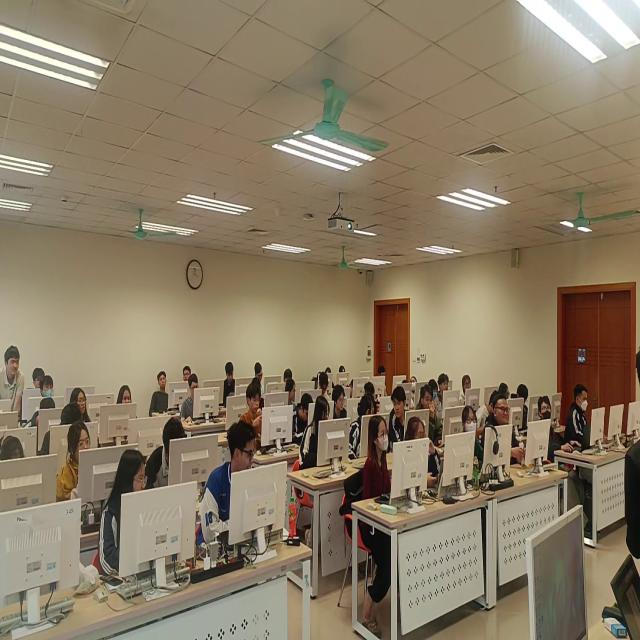raise_head: (363, 428, 396, 546), (486, 403, 525, 468), (537, 399, 567, 477), (458, 405, 485, 481), (154, 370, 180, 418), (116, 384, 142, 430), (418, 390, 441, 435), (72, 390, 98, 427), (438, 374, 453, 412), (32, 370, 48, 393), (42, 376, 56, 401), (182, 362, 192, 386)
stand: (1, 345, 24, 432)
using_computer: (3, 431, 51, 508), (65, 432, 112, 505), (568, 389, 606, 449), (237, 386, 273, 442), (181, 380, 222, 429), (512, 385, 536, 430), (330, 386, 354, 427), (462, 379, 483, 420), (297, 395, 316, 440), (253, 358, 272, 392), (224, 365, 239, 403), (314, 375, 332, 403)
using_phone: (403, 418, 439, 505)
